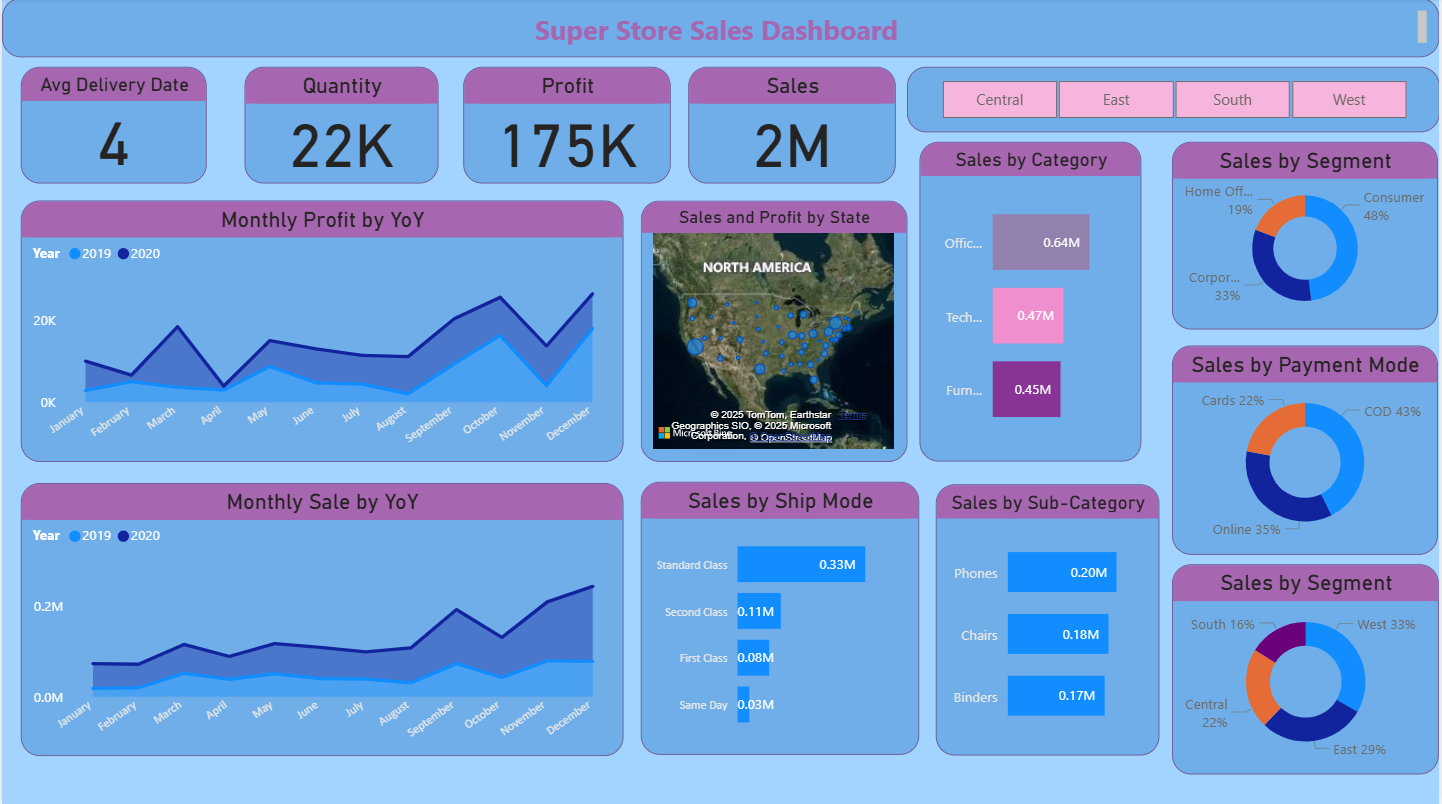

The page's visual inventory and layout, read from the dashboard file:
{"tool":"powerbi","page":{"name":"Dasboard","canvas":[1280,720],"ordinal":0},"visuals":[{"type":"clusteredBarChart","title":"Sales by Category","fields":{"Category":["SuperStore_Sales_Dataset.Category"],"Y":["Sum(SuperStore_Sales_Dataset.Sales)"]},"box":[816.5,127.5,197.9,284.9],"z":0},{"type":"clusteredBarChart","title":"Sales by Sub-Category","fields":{"Category":["SuperStore_Sales_Dataset.Sub-Category"],"Y":["Sum(SuperStore_Sales_Dataset.Sales)"]},"box":[832,432.7,199.1,242],"z":1000},{"type":"clusteredBarChart","title":"Sales by Ship Mode","fields":{"Category":["SuperStore_Sales_Dataset.Ship Mode"],"Y":["Sum(SuperStore_Sales_Dataset.Sales)"]},"box":[568.6,430.3,247.9,243.2],"z":2000},{"type":"stackedAreaChart","title":"Monthly Sale by YoY","fields":{"Category":["SuperStore_Sales_Dataset.Order Date.Variation.Date Hierarchy.Month","SuperStore_Sales_Dataset.Order Date.Variation.Date Hierarchy.Day"],"Series":["SuperStore_Sales_Dataset.Order Date.Variation.Date Hierarchy.Year"],"Y":["Sum(SuperStore_Sales_Dataset.Sales)"]},"box":[16.7,431.5,536.4,243.2],"z":3000},{"type":"stackedAreaChart","title":"Monthly Profit by YoY","fields":{"Category":["SuperStore_Sales_Dataset.Order Date.Variation.Date Hierarchy.Month","SuperStore_Sales_Dataset.Order Date.Variation.Date Hierarchy.Day"],"Series":["SuperStore_Sales_Dataset.Order Date.Variation.Date Hierarchy.Year"],"Y":["Sum(SuperStore_Sales_Dataset.Profit)"]},"box":[16.7,180,536.4,232.4],"z":4000},{"type":"map","title":"Sales and Profit by State","fields":{"Category":["SuperStore_Sales_Dataset.State"],"Size":["Sum(SuperStore_Sales_Dataset.Sales)"]},"box":[568.6,180,237.2,232.4],"z":5000},{"type":"donutChart","title":"Sales by Segment","fields":{"Category":["SuperStore_Sales_Dataset.Segment"],"Y":["Sum(SuperStore_Sales_Dataset.Sales)"]},"box":[1042.2,128.1,236.5,167.5],"z":6000},{"type":"donutChart","title":"Sales by Payment Mode","fields":{"Y":["Sum(SuperStore_Sales_Dataset.Sales)"],"Category":["SuperStore_Sales_Dataset.Payment Mode"]},"box":[1042.2,309.2,236.5,186],"z":7000},{"type":"slicer","fields":{"Values":["SuperStore_Sales_Dataset.Region"]},"box":[805.8,60.8,474.4,58.4],"z":8000},{"type":"textbox","box":[0,0,1280.2,52.4],"z":9000},{"type":"card","title":"Sales","fields":{"Values":["Sum(SuperStore_Sales_Dataset.Sales)"]},"box":[611.5,60.8,184.8,103.7],"z":10000},{"type":"card","title":"Quantity","fields":{"Values":["Sum(SuperStore_Sales_Dataset.Quantity)"]},"box":[215.8,60.8,172.8,103.7],"z":11000},{"type":"card","title":"Profit","fields":{"Values":["Sum(SuperStore_Sales_Dataset.Profit)"]},"box":[411.2,60.8,184.8,103.7],"z":12000},{"type":"card","title":"Avg Delivery Date","fields":{"Values":["Avg(SuperStore_Sales_Dataset.AvgDeliveryDate)"]},"box":[16.7,60.8,165.7,103.7],"z":13000},{"type":"donutChart","title":"Sales by Segment","fields":{"Category":["SuperStore_Sales_Dataset.Region"],"Y":["Sum(SuperStore_Sales_Dataset.Sales)"]},"box":[1042.2,503.9,237.8,187.3],"z":14000}]}

Visuals, with their boxes in screenshot pixels (x1, y1, x2, y2), scaled from the page's 1280x720 canvas onto the 1442x804 screenshot:
"Sales by Category" clusteredBarChart: bbox(920, 142, 1143, 461)
"Sales by Sub-Category" clusteredBarChart: bbox(937, 483, 1162, 753)
"Sales by Ship Mode" clusteredBarChart: bbox(641, 481, 920, 752)
"Monthly Sale by YoY" stackedAreaChart: bbox(19, 482, 623, 753)
"Monthly Profit by YoY" stackedAreaChart: bbox(19, 201, 623, 461)
"Sales and Profit by State" map: bbox(641, 201, 908, 461)
"Sales by Segment" donutChart: bbox(1174, 143, 1441, 330)
"Sales by Payment Mode" donutChart: bbox(1174, 345, 1441, 553)
slicer - SuperStore_Sales_Dataset.Region: bbox(908, 68, 1441, 133)
textbox: bbox(0, 0, 1441, 59)
"Sales" card: bbox(689, 68, 897, 184)
"Quantity" card: bbox(243, 68, 438, 184)
"Profit" card: bbox(463, 68, 671, 184)
"Avg Delivery Date" card: bbox(19, 68, 205, 184)
"Sales by Segment" donutChart: bbox(1174, 563, 1441, 772)
